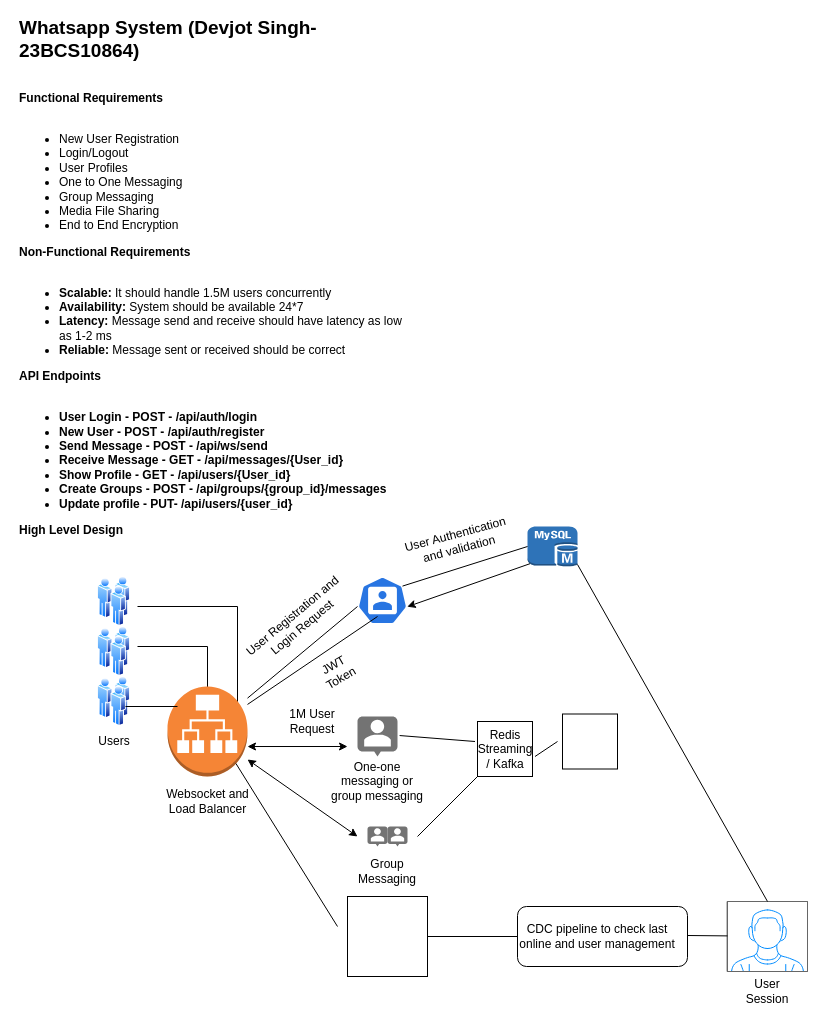
The diagram is 825 pixels wide and 1024 high, and some of its shapes have lost their labels. Here are the shapes that lost their labels. From the top down, the centre of each, then its label:
the point at 590,741: Chatdb
the point at 387,936: USER1-WS1 USER2-WS2
